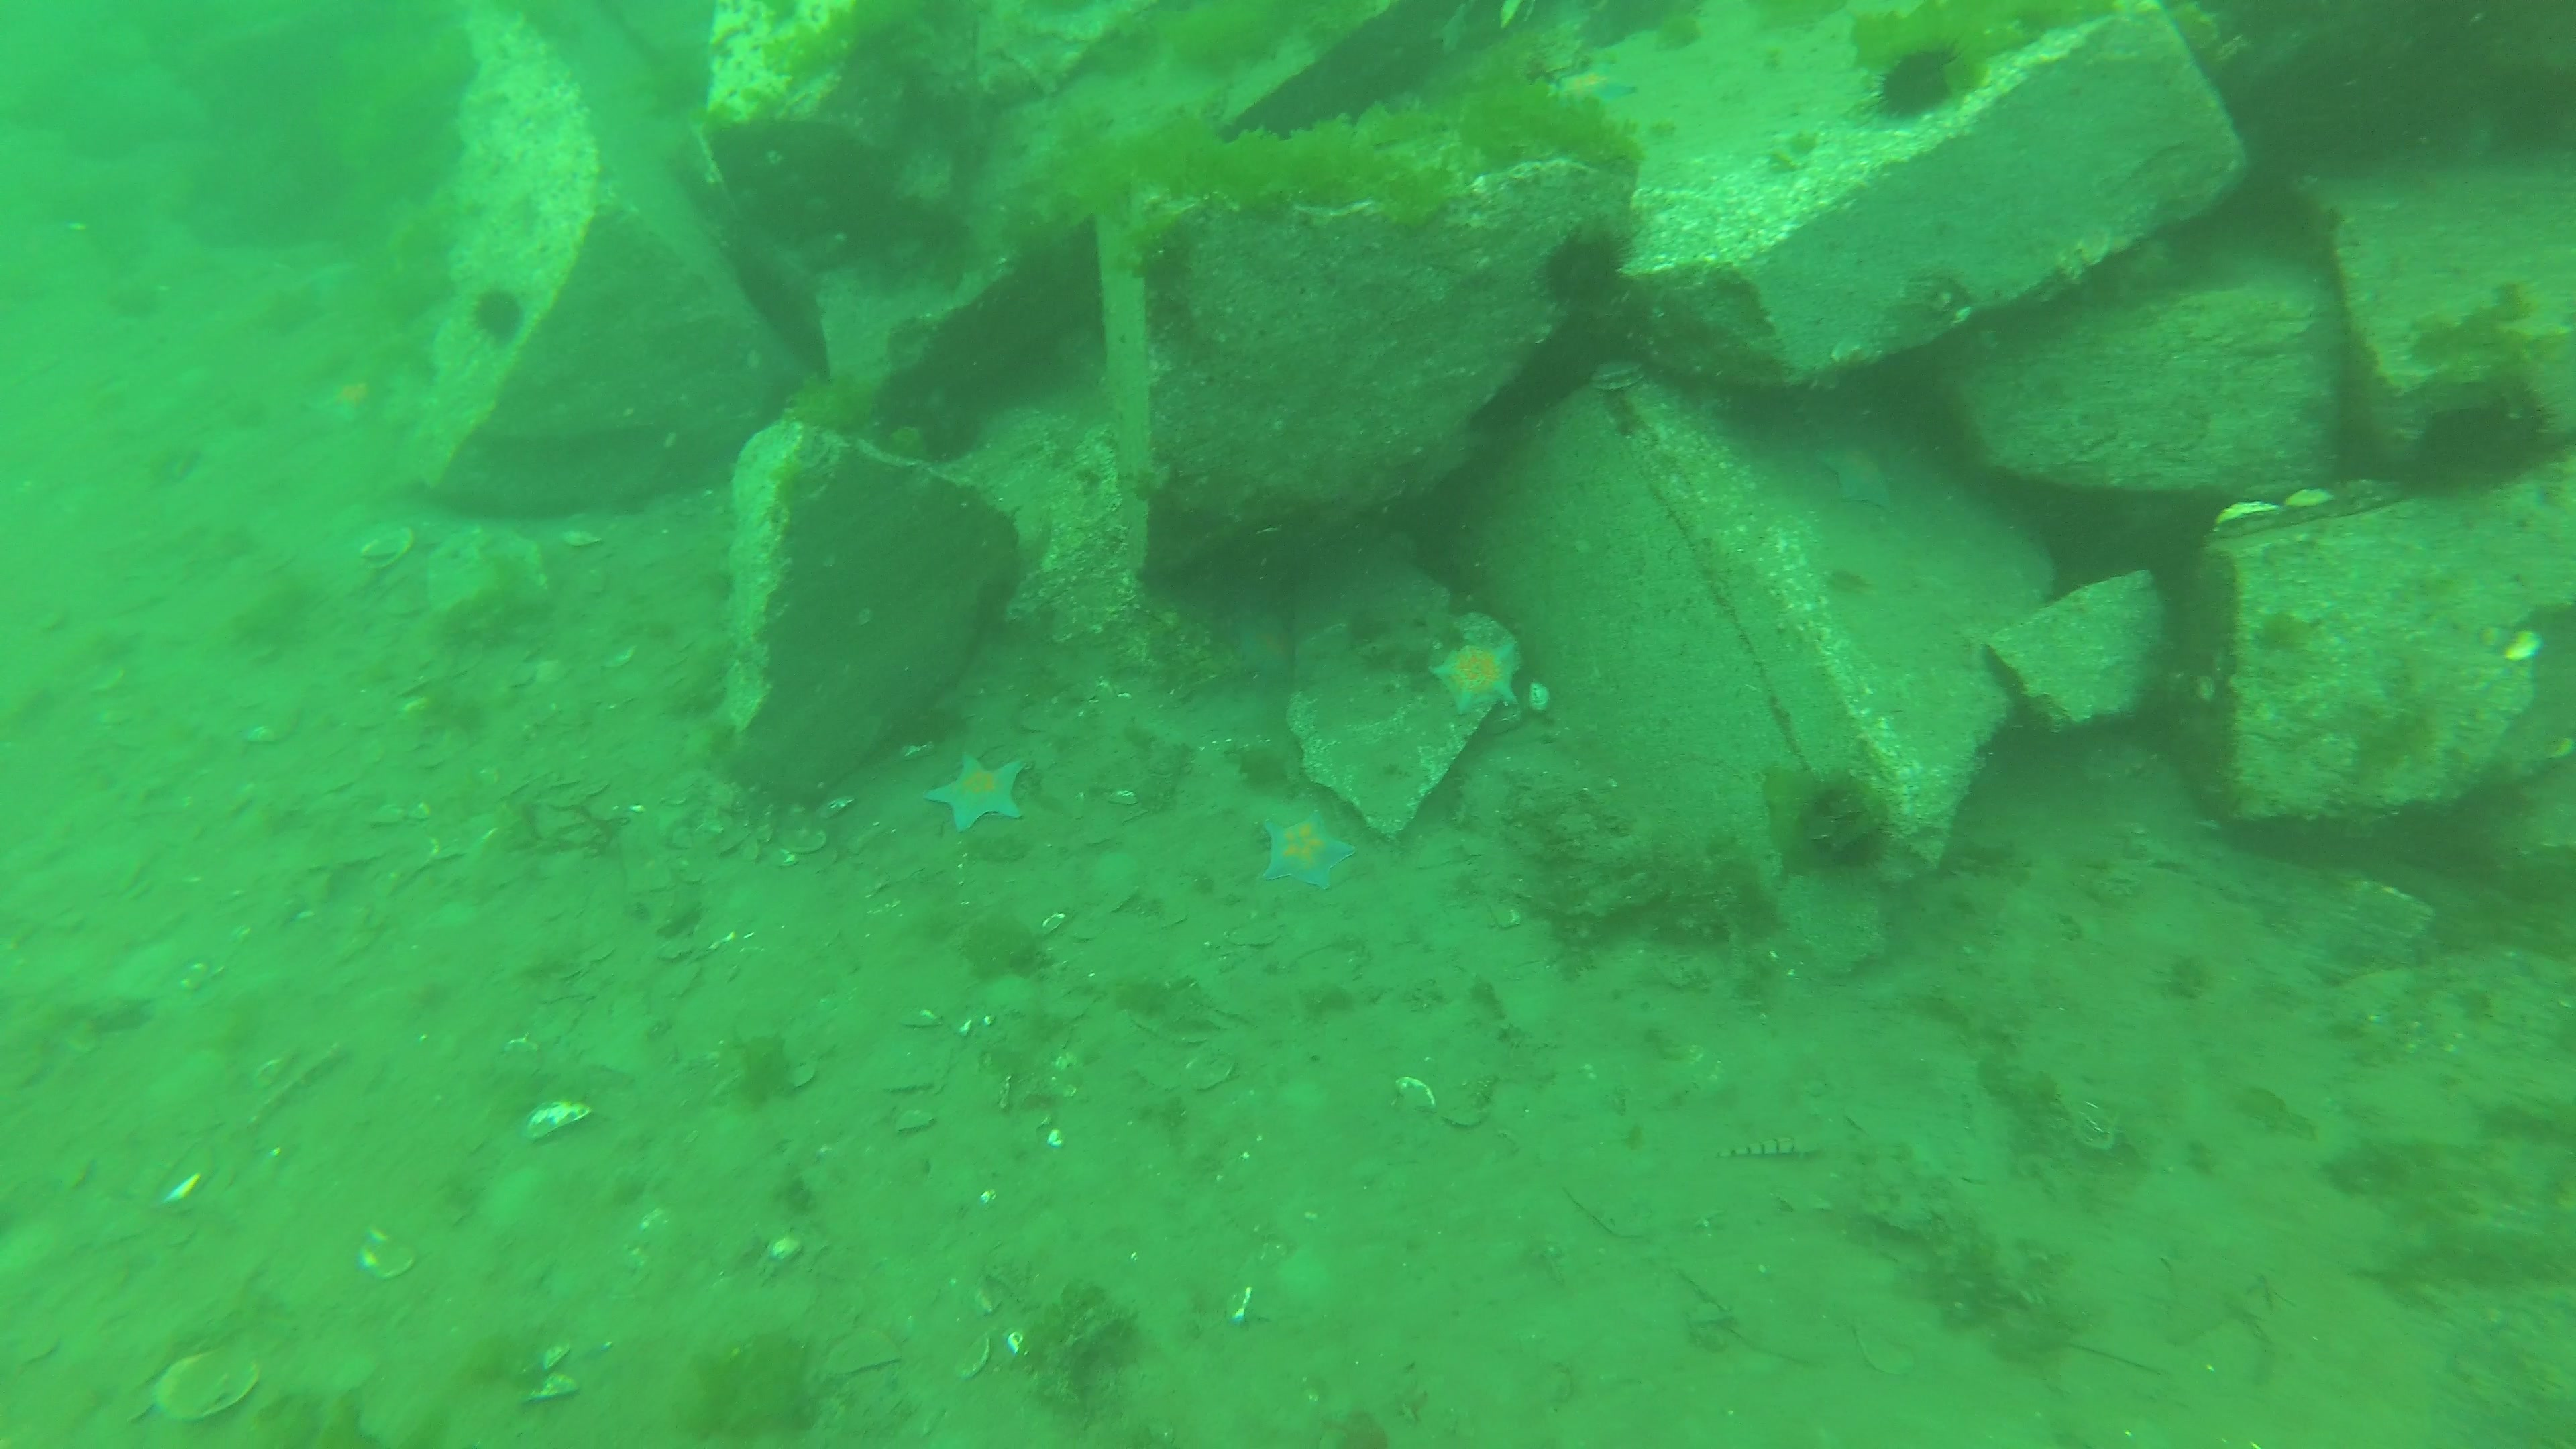echinus: (2415, 387, 2562, 497), (1790, 771, 1898, 878), (1532, 230, 1629, 318), (1870, 46, 1962, 122), (469, 283, 527, 352)
starfish: (1424, 626, 1523, 720), (1253, 809, 1357, 895), (925, 755, 1035, 833)
